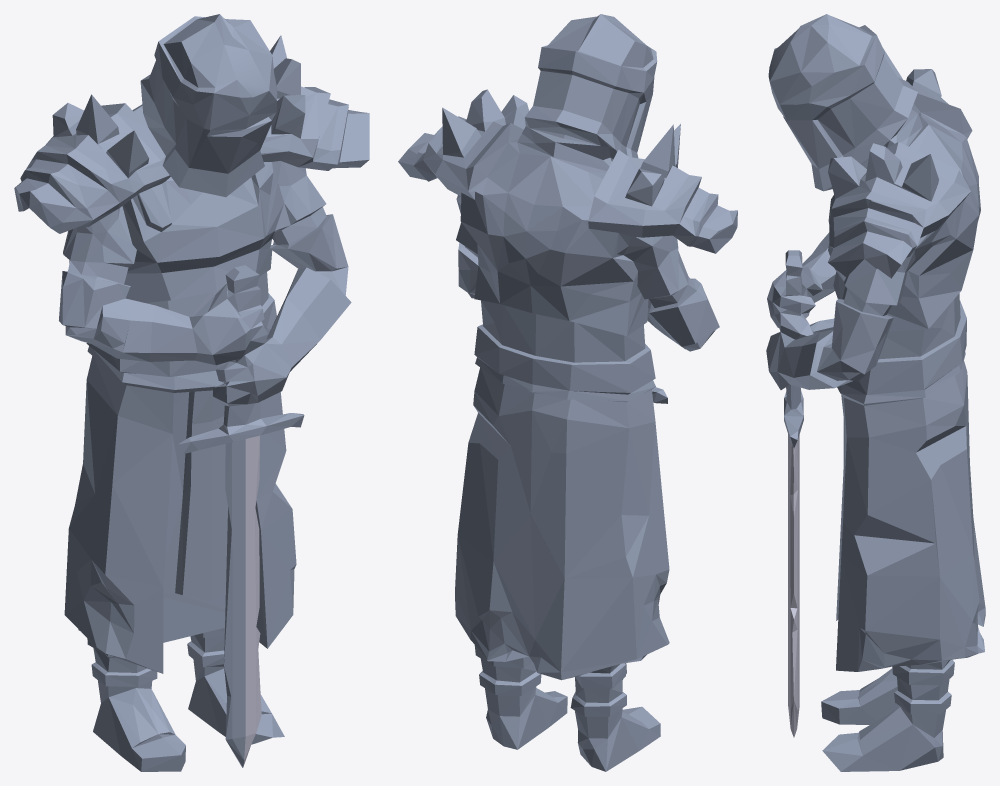
The model's file is Statue_01.FBX.
3 views of the same model, side by side, from view 1: azimuth 30°, elevation 25°; view 2: azimuth 150°, elevation 25°; view 3: azimuth 270°, elevation 25° (orthographic). The views are drawn at different scales.
Visible parts, largest first — view 1: Statue_01; view 2: Statue_01; view 3: Statue_01.
Boxes of the visible parts, left/top/right/bottom form: Statue_01: left=14, top=14, right=369, bottom=771; Statue_01: left=398, top=14, right=737, bottom=771; Statue_01: left=766, top=14, right=985, bottom=771.
Size of the model in its own units: 1.47 by 3.01 by 0.8282.
